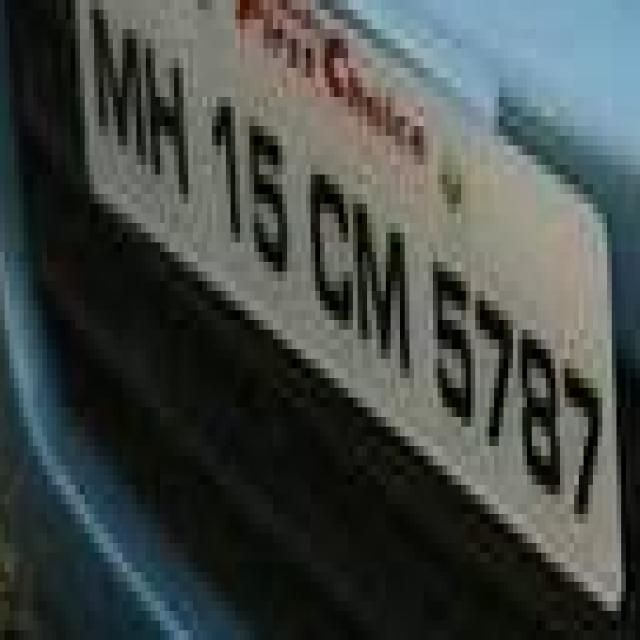license_plate: (19, 0, 640, 572)
